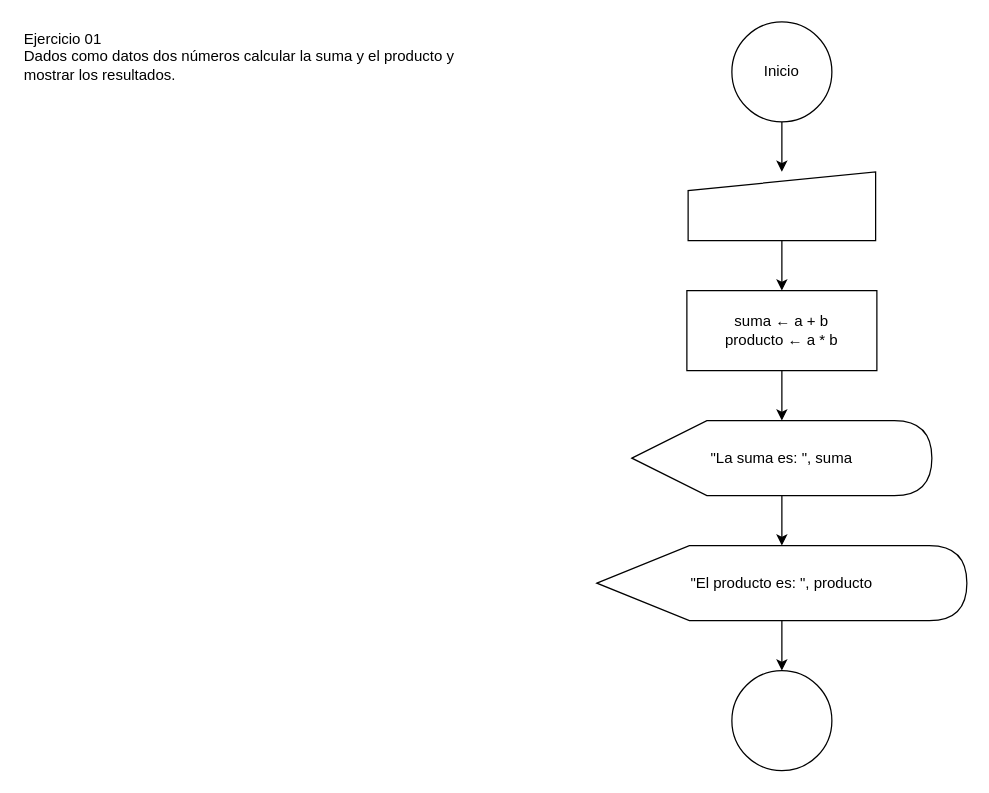
This 989x793 diagram has some shape labels left out. Each missing label, with the centre of its shape:
a,b: point 781,206
Fin: point 781,720
